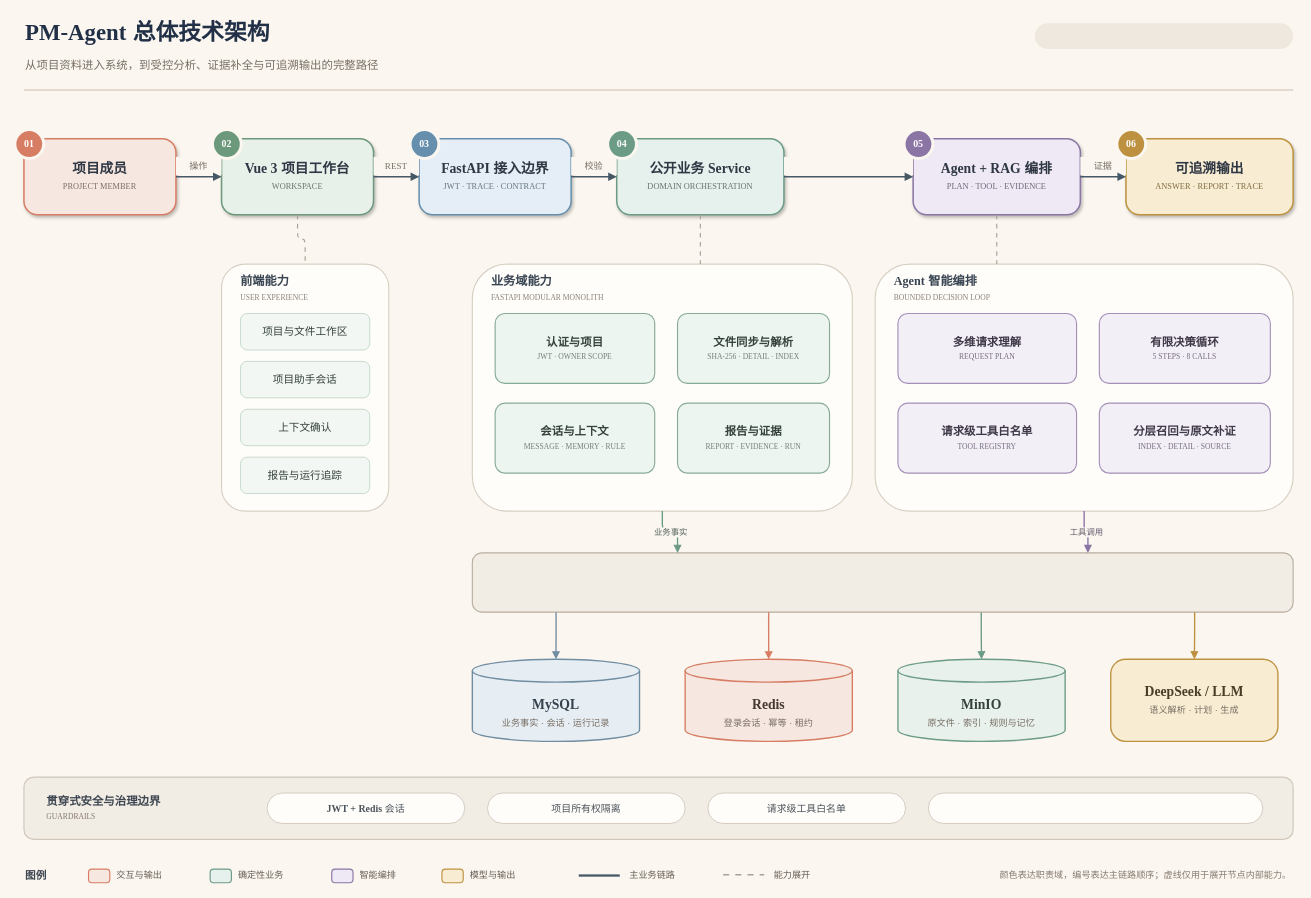
Some shapes in this 1311 by 898 pixel diagram are drawn without their labels. Each missing label, with the centre of its shape:
"WARM LINEAR · MODULAR MONOLITH" goes at [1163,36].
"上下文预算 + Trace" goes at [1095,807].
"受控基础设施访问层 Repository 负责业务事实 · Redis / MinIO / LLM 调用位于明确边界 · 外部调用不占用数据库事务" goes at [882,582].
"计划 / 工具" goes at [848,166].
